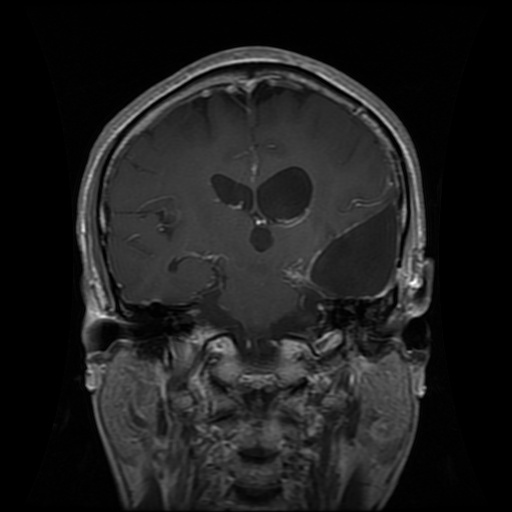glioma: (285, 179, 403, 301)
